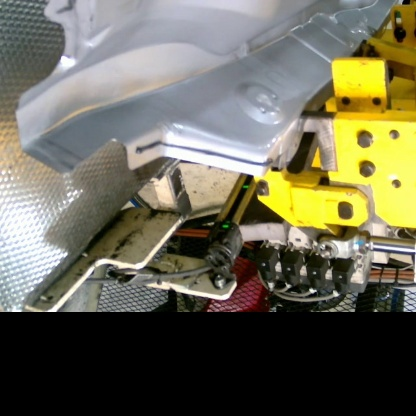line: (134, 138, 274, 167)
